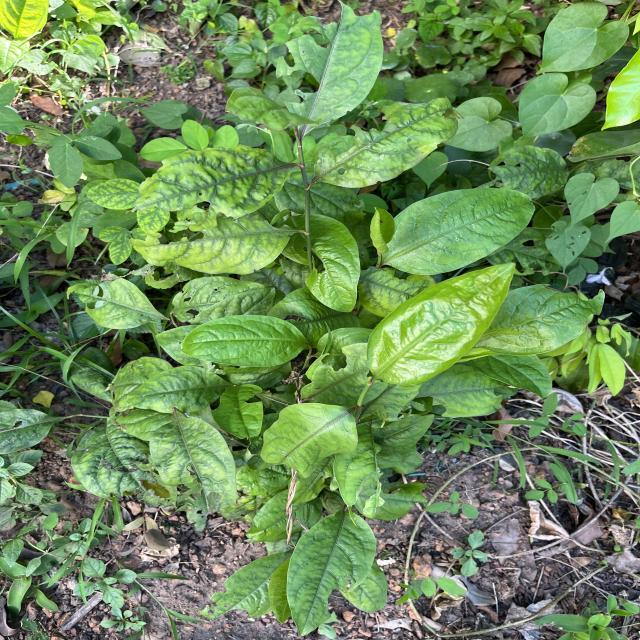Plumbago indica: (360, 258, 526, 390), (382, 178, 542, 282), (133, 142, 300, 230), (314, 99, 464, 188), (284, 508, 381, 633), (178, 311, 314, 369)
